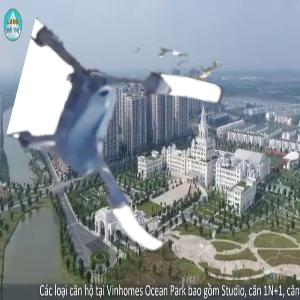drone: (8, 38, 221, 251)
